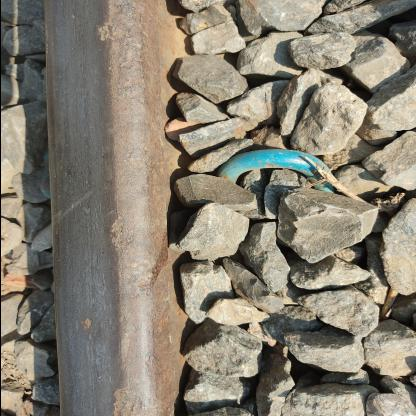Non Defective: (132, 122, 366, 280)
